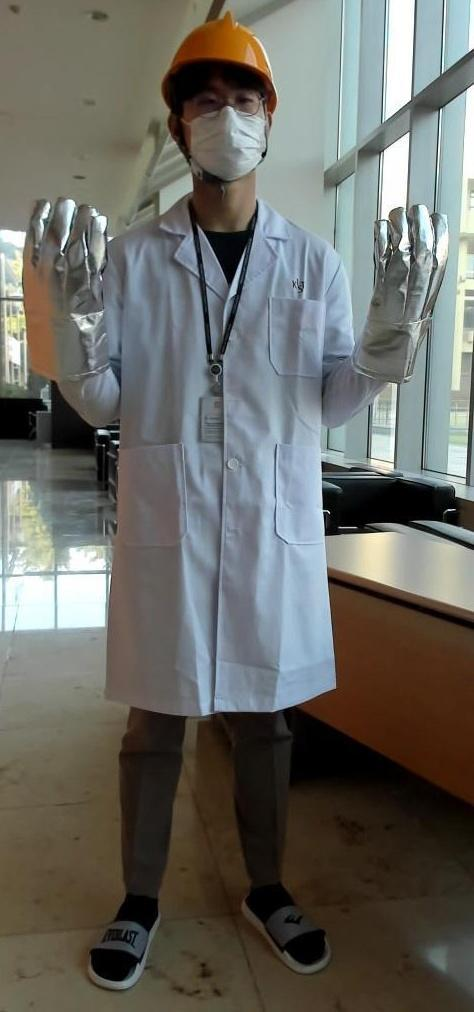lab_coat: (107, 244, 354, 703)
